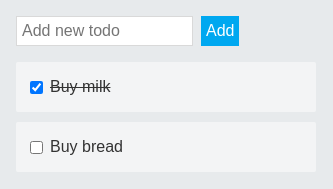
Test: TodoApp › Check if save and delete buttons are visible
Step 1. Hover over the list item with test id "todo-0" → (166, 87), box [16, 62, 316, 112]
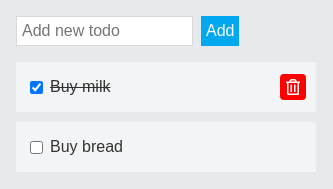
Result: the button with test id "todo-0-delete" is shown at [280, 74, 306, 100]
Step 2. Click the text with test id "todo-0-text" → click(80, 86), box [50, 78, 110, 95]
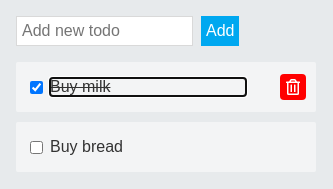
Step 3. Hover over the list item with test id "todo-0" → (166, 87), box [16, 62, 316, 112]
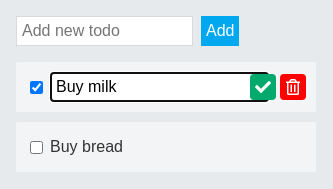
Result: the element with test id "todo-0-buttons" is shown at [250, 74, 306, 100]
Result: the button with test id "todo-0-delete" is shown at [280, 74, 306, 100]
Result: the button with test id "todo-0-save" is shown at [250, 74, 276, 100]
